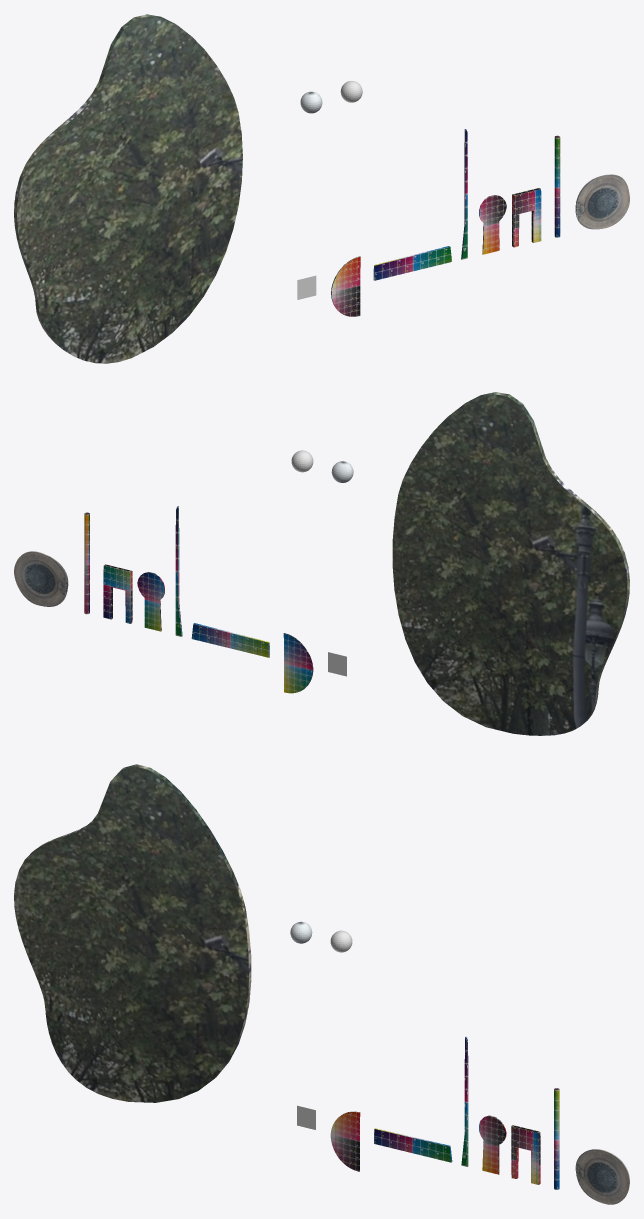
File: plstmichel.glb
The picture shows the model from 3 angles, top to bottom: view 1: azimuth 30°, elevation 25°; view 2: azimuth 150°, elevation 25°; view 3: azimuth 330°, elevation 25°; orthographic projection.
Parts seen in each view (by area): view 1: boom1, disc_fountain, halfcircle, rechthoek, poortje, sleutelgat, paal, paal2; view 2: boom1, disc_fountain, halfcircle, rechthoek, poortje, sleutelgat, paal2, paal; view 3: boom1, disc_fountain, halfcircle, rechthoek, poortje, sleutelgat, paal2, paal.
Boxes of the visible parts, x1=… form: boom1: x1=14, y1=14, x2=242, y2=363; disc_fountain: x1=575, y1=174, x2=629, y2=229; halfcircle: x1=331, y1=256, x2=360, y2=316; rechthoek: x1=373, y1=246, x2=451, y2=280; poortje: x1=512, y1=187, x2=541, y2=247; sleutelgat: x1=479, y1=195, x2=506, y2=254; paal: x1=554, y1=135, x2=560, y2=237; paal2: x1=461, y1=129, x2=467, y2=259; boom1: x1=392, y1=392, x2=629, y2=735; disc_fountain: x1=14, y1=551, x2=68, y2=606; halfcircle: x1=283, y1=633, x2=313, y2=693; rechthoek: x1=191, y1=623, x2=269, y2=657; poortje: x1=103, y1=564, x2=132, y2=623; sleutelgat: x1=137, y1=572, x2=164, y2=631; paal2: x1=175, y1=506, x2=182, y2=636; paal: x1=84, y1=512, x2=89, y2=614; boom1: x1=14, y1=764, x2=251, y2=1102; disc_fountain: x1=575, y1=1149, x2=629, y2=1204; halfcircle: x1=330, y1=1111, x2=360, y2=1171; rechthoek: x1=374, y1=1128, x2=452, y2=1162; poortje: x1=511, y1=1125, x2=540, y2=1184; sleutelgat: x1=479, y1=1115, x2=506, y2=1174; paal2: x1=461, y1=1037, x2=468, y2=1166; paal: x1=554, y1=1088, x2=559, y2=1189.
Size of the model in its own units: 64.59 by 35.37 by 3.39.
Materials: 9 (9 with a texture image).
